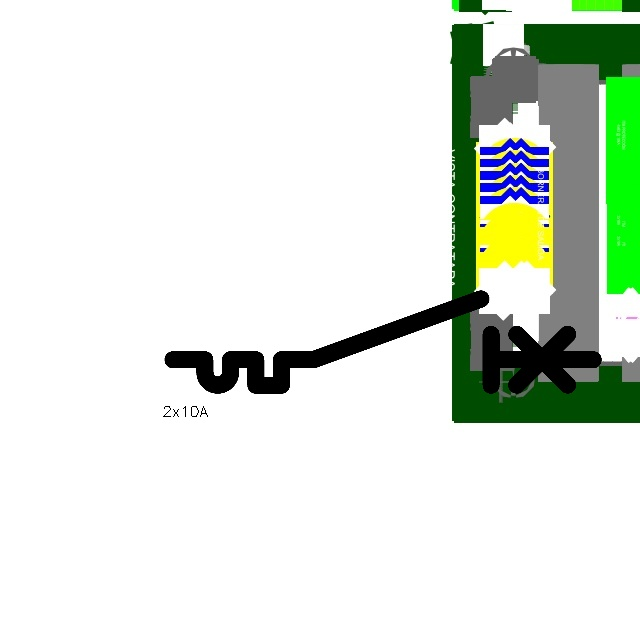interruptor_termomagnetico: (162, 288, 604, 396)
